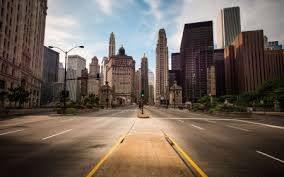strada: (0, 104, 252, 177)
